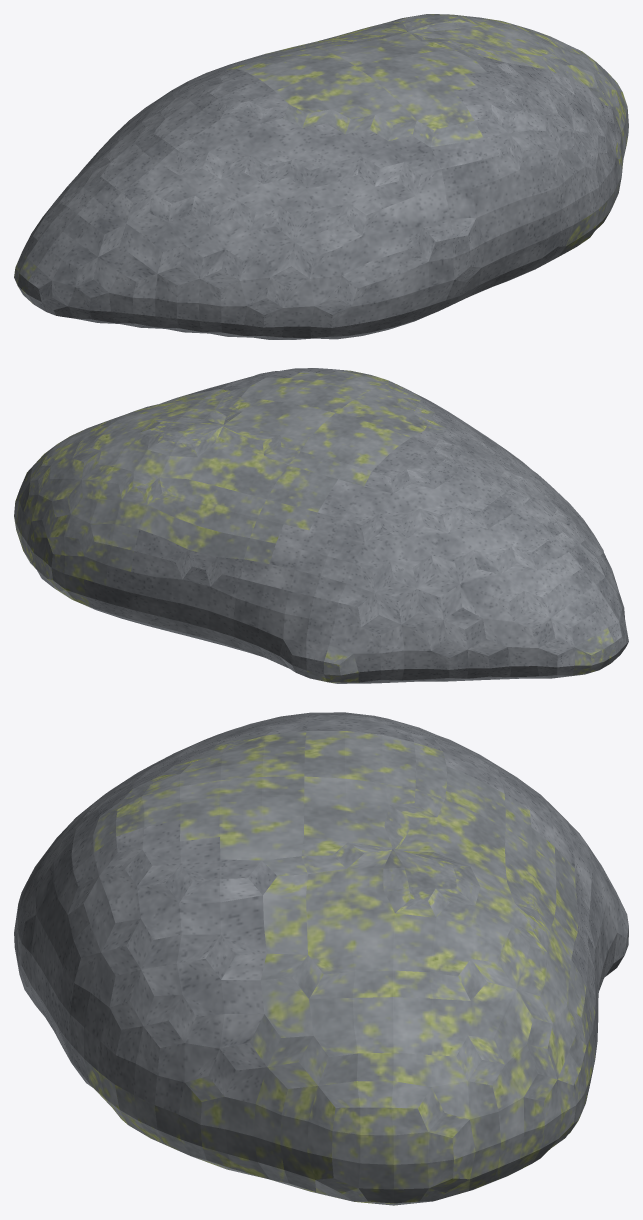
The model's file is rock_flat.glb.
3 renders of one model, top to bottom at view 1: azimuth 30°, elevation 25°; view 2: azimuth 150°, elevation 25°; view 3: azimuth 270°, elevation 25°, orthographic. The views are drawn at different scales.
Parts seen in each view (by area): view 1: wilds_rock_flat; view 2: wilds_rock_flat; view 3: wilds_rock_flat.
Part boxes in pixels (x1=…): wilds_rock_flat: x1=14, y1=14, x2=628, y2=339; wilds_rock_flat: x1=14, y1=368, x2=628, y2=683; wilds_rock_flat: x1=14, y1=712, x2=628, y2=1205.
Size of the model in its own units: 1.36 by 0.4281 by 0.8706.
1 material, 1 textured.
